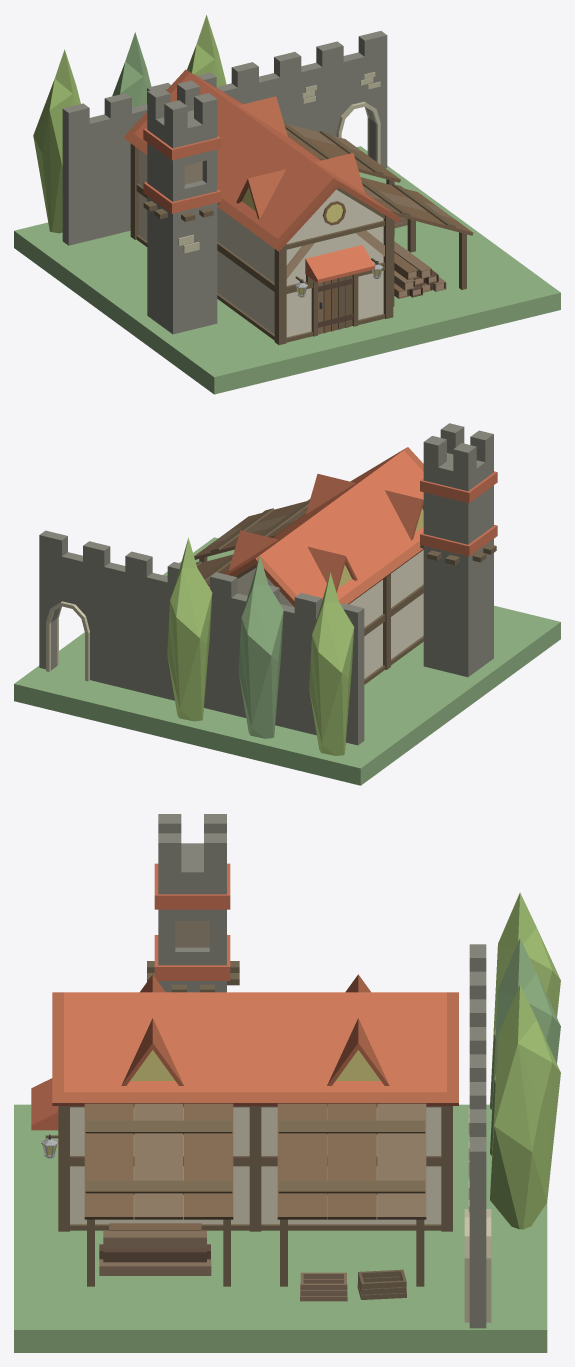
File: House_6.fbx
The picture shows the model from 3 angles, top to bottom: view 1: azimuth 30°, elevation 25°; view 2: azimuth 150°, elevation 25°; view 3: azimuth 270°, elevation 25°; orthographic projection. The views are drawn at different scales.
Parts seen in each view (by area): view 1: House_6; view 2: House_6; view 3: House_6.
Boxes of the visible parts, left/top/right/bottom form: House_6: left=14, top=15, right=560, bottom=394; House_6: left=14, top=423, right=560, bottom=785; House_6: left=14, top=814, right=560, bottom=1352.
Bounding box in the file's own units: 219 × 146 × 225.
Materials: 1 (1 with a texture image).
